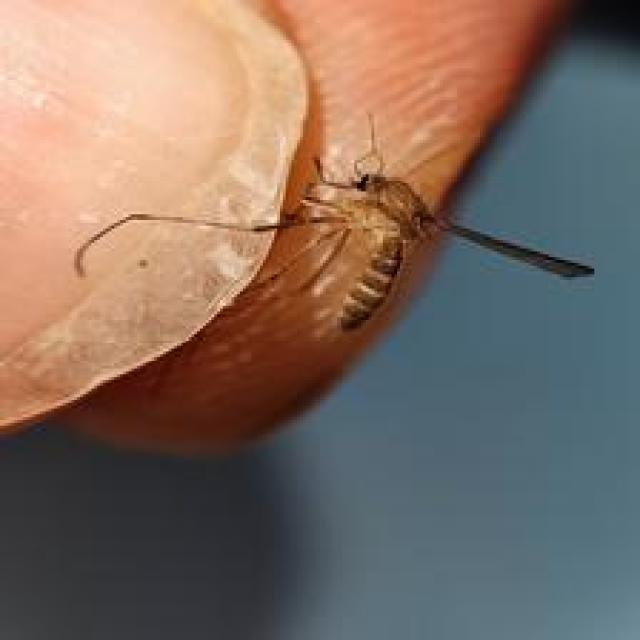Culex: (0, 0, 597, 457)
